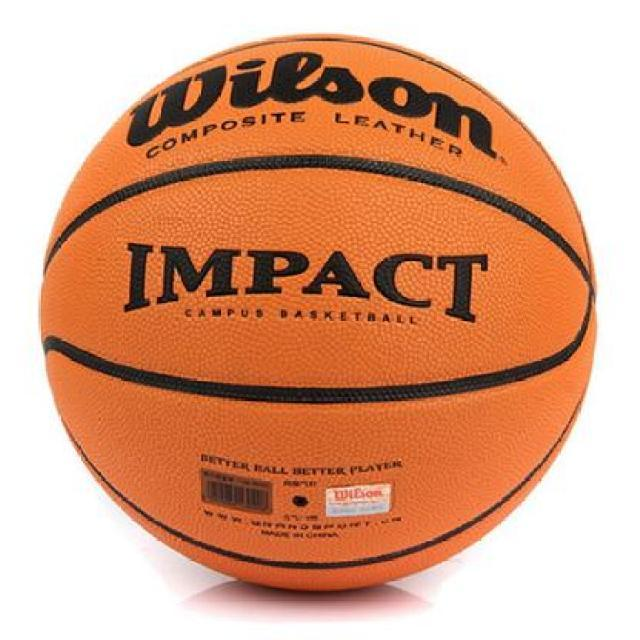basketball: (39, 34, 598, 594)
